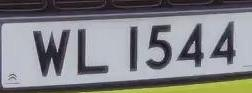1: (120, 18, 147, 77)
4: (174, 15, 208, 74), (208, 13, 240, 73)
5: (140, 18, 176, 76)
L: (71, 23, 114, 80)
W: (32, 24, 71, 80)
